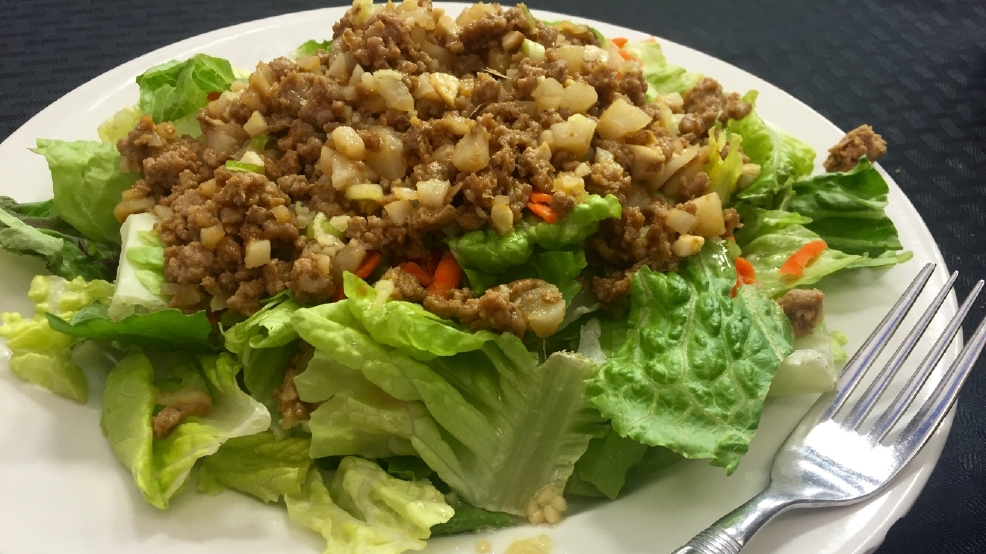chopped lettuce: (73, 294, 785, 552), (671, 132, 887, 373), (31, 82, 197, 380)
